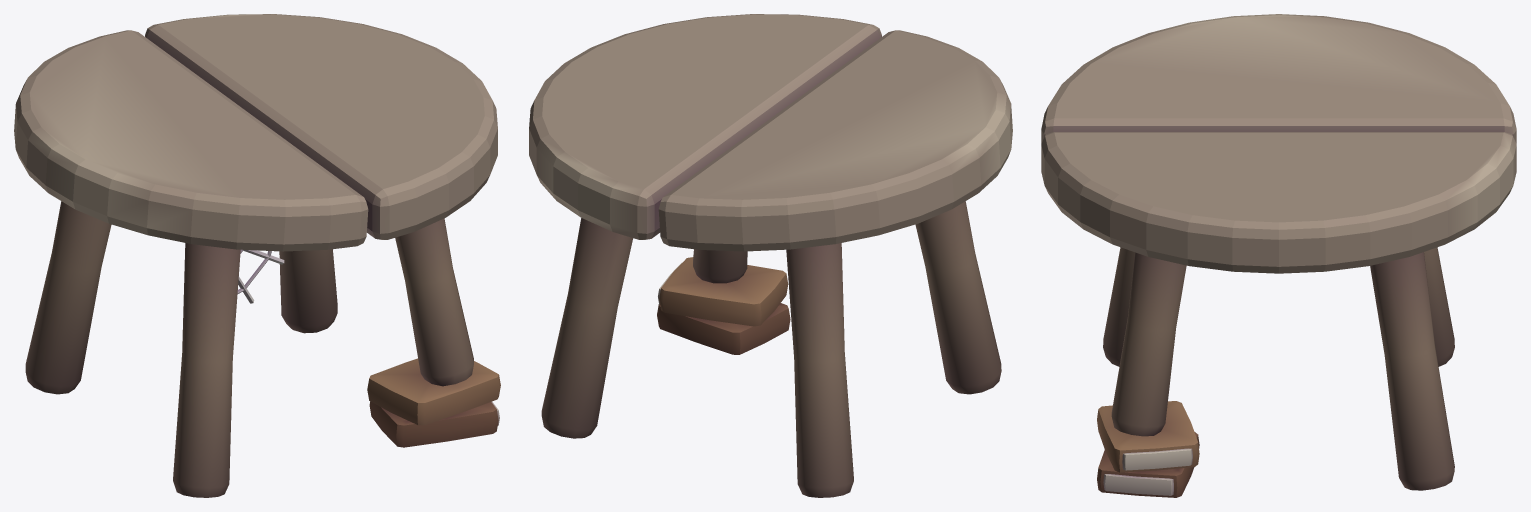
The model's file is table_broken.glb.
3 views of the same model, side by side, from view 1: azimuth 30°, elevation 25°; view 2: azimuth 150°, elevation 25°; view 3: azimuth 270°, elevation 25° (orthographic).
Parts seen in each view (by area): view 1: table_broken; view 2: table_broken; view 3: table_broken.
Part boxes in pixels (x1,y1,x2,y2): table_broken: (14,14,500,497); table_broken: (529,14,1012,497); table_broken: (1041,14,1516,497).
Size of the model in its own units: 1.3 by 0.9251 by 1.27.
